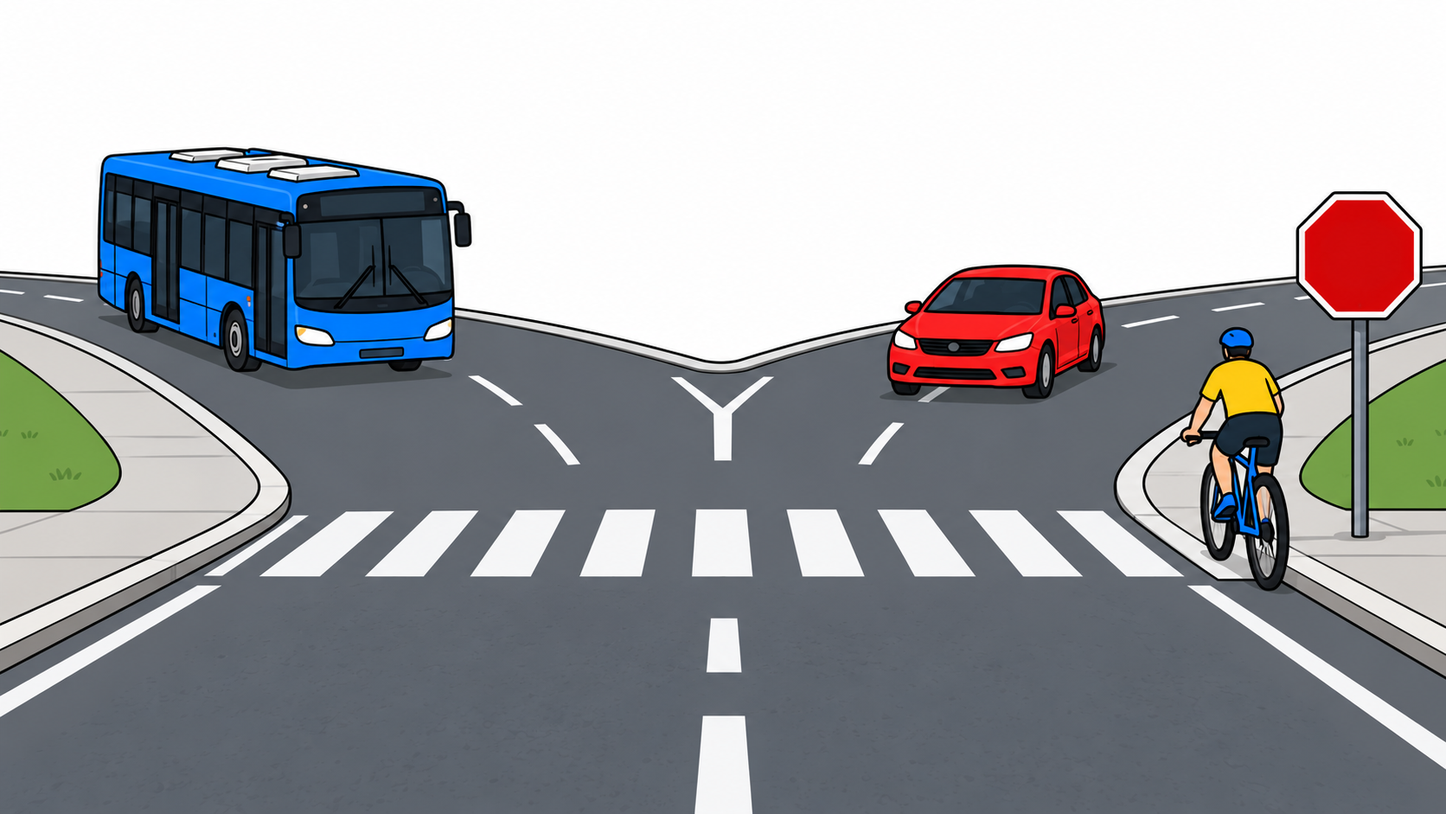bicycle: (1198, 413, 1305, 591)
bus: (96, 147, 473, 374)
car: (880, 263, 1107, 401)
person: (1208, 324, 1297, 528)
stop_sign: (1295, 189, 1425, 323)
zebra_crossing: (182, 507, 1198, 580)
